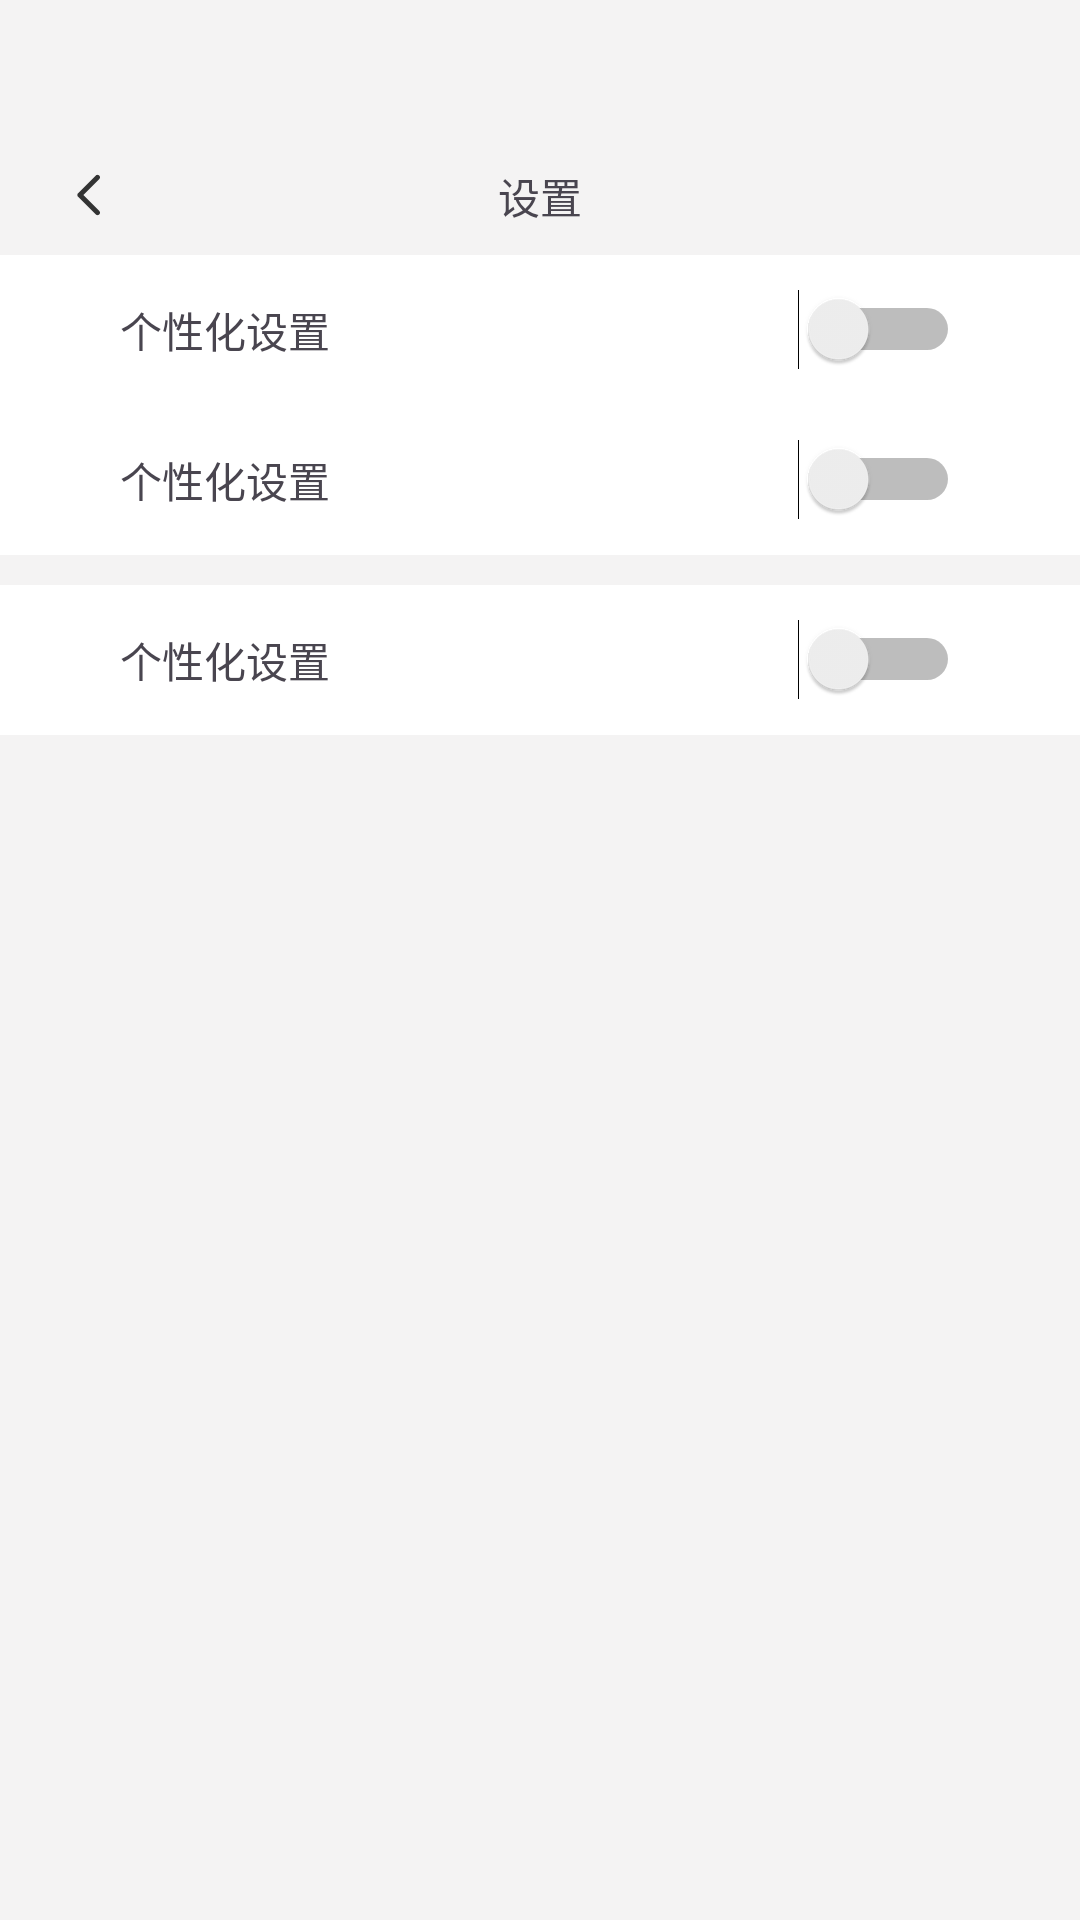

Where icons sit on this 1080w x 1920h app screen, as [x1=x1, y1=y1, x2=x2, y2=y2]:
return: [x1=77, y1=174, x2=100, y2=216]
